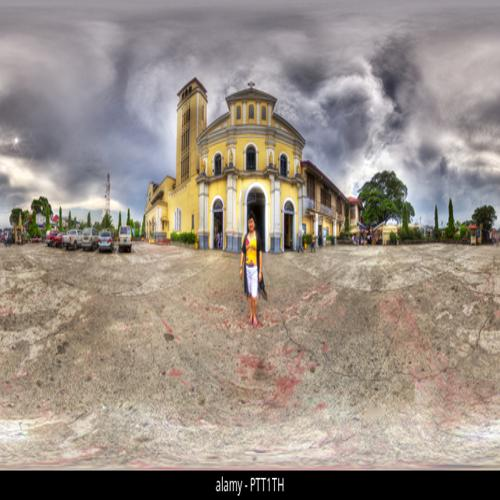Manaoag Church: (164, 72, 306, 259)
